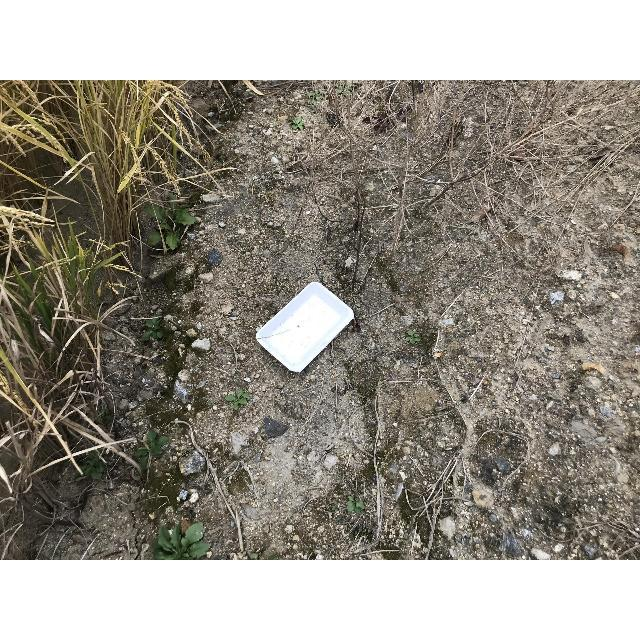Plastico descartable: (256, 283, 355, 375)
